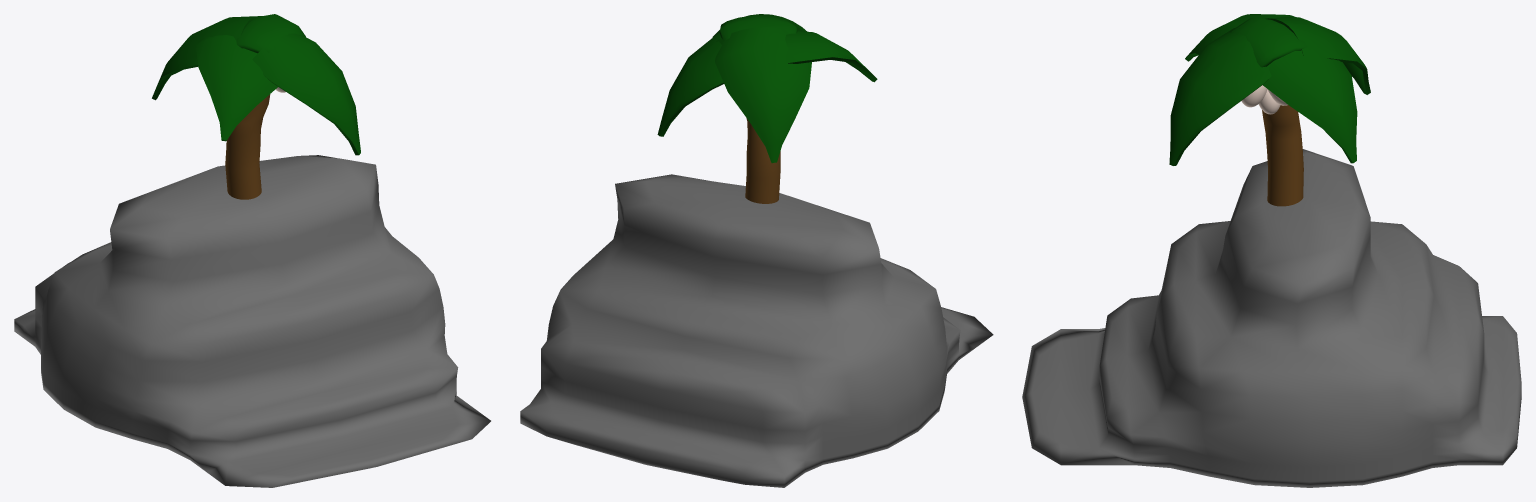
File: 작은섬.fbx
3 renders of one model, left to right at view 1: azimuth 30°, elevation 25°; view 2: azimuth 150°, elevation 25°; view 3: azimuth 270°, elevation 25°, orthographic. The views are drawn at different scales.
Visible parts, largest first — view 1: pCube1, pCube2, pCube5, pCylinder1, pCube3, pCube6; view 2: pCube1, pCube3, pCube4, pCylinder1, pCube5, pCube6; view 3: pCube1, pCube2, pCube4, pCylinder1, pCube3, pCube6, pCube5.
Part boxes in pixels (x1,y1,x2,y2): pCube1: [14, 155, 490, 487]; pCube2: [252, 33, 360, 155]; pCube5: [195, 35, 277, 141]; pCylinder1: [225, 94, 270, 199]; pCube3: [152, 16, 262, 100]; pCube6: [236, 14, 305, 53]; pCube1: [520, 174, 993, 487]; pCube3: [715, 27, 811, 163]; pCube4: [657, 32, 723, 136]; pCylinder1: [745, 118, 780, 203]; pCube5: [785, 31, 877, 82]; pCube6: [719, 15, 797, 40]; pCube1: [1022, 149, 1521, 487]; pCube2: [1169, 27, 1271, 165]; pCube4: [1263, 49, 1357, 163]; pCylinder1: [1262, 105, 1303, 206]; pCube3: [1265, 16, 1370, 94]; pCube6: [1229, 17, 1307, 67]; pCube5: [1185, 14, 1294, 61].
Size of the model in its own units: 13.05 by 12.82 by 15.23.
